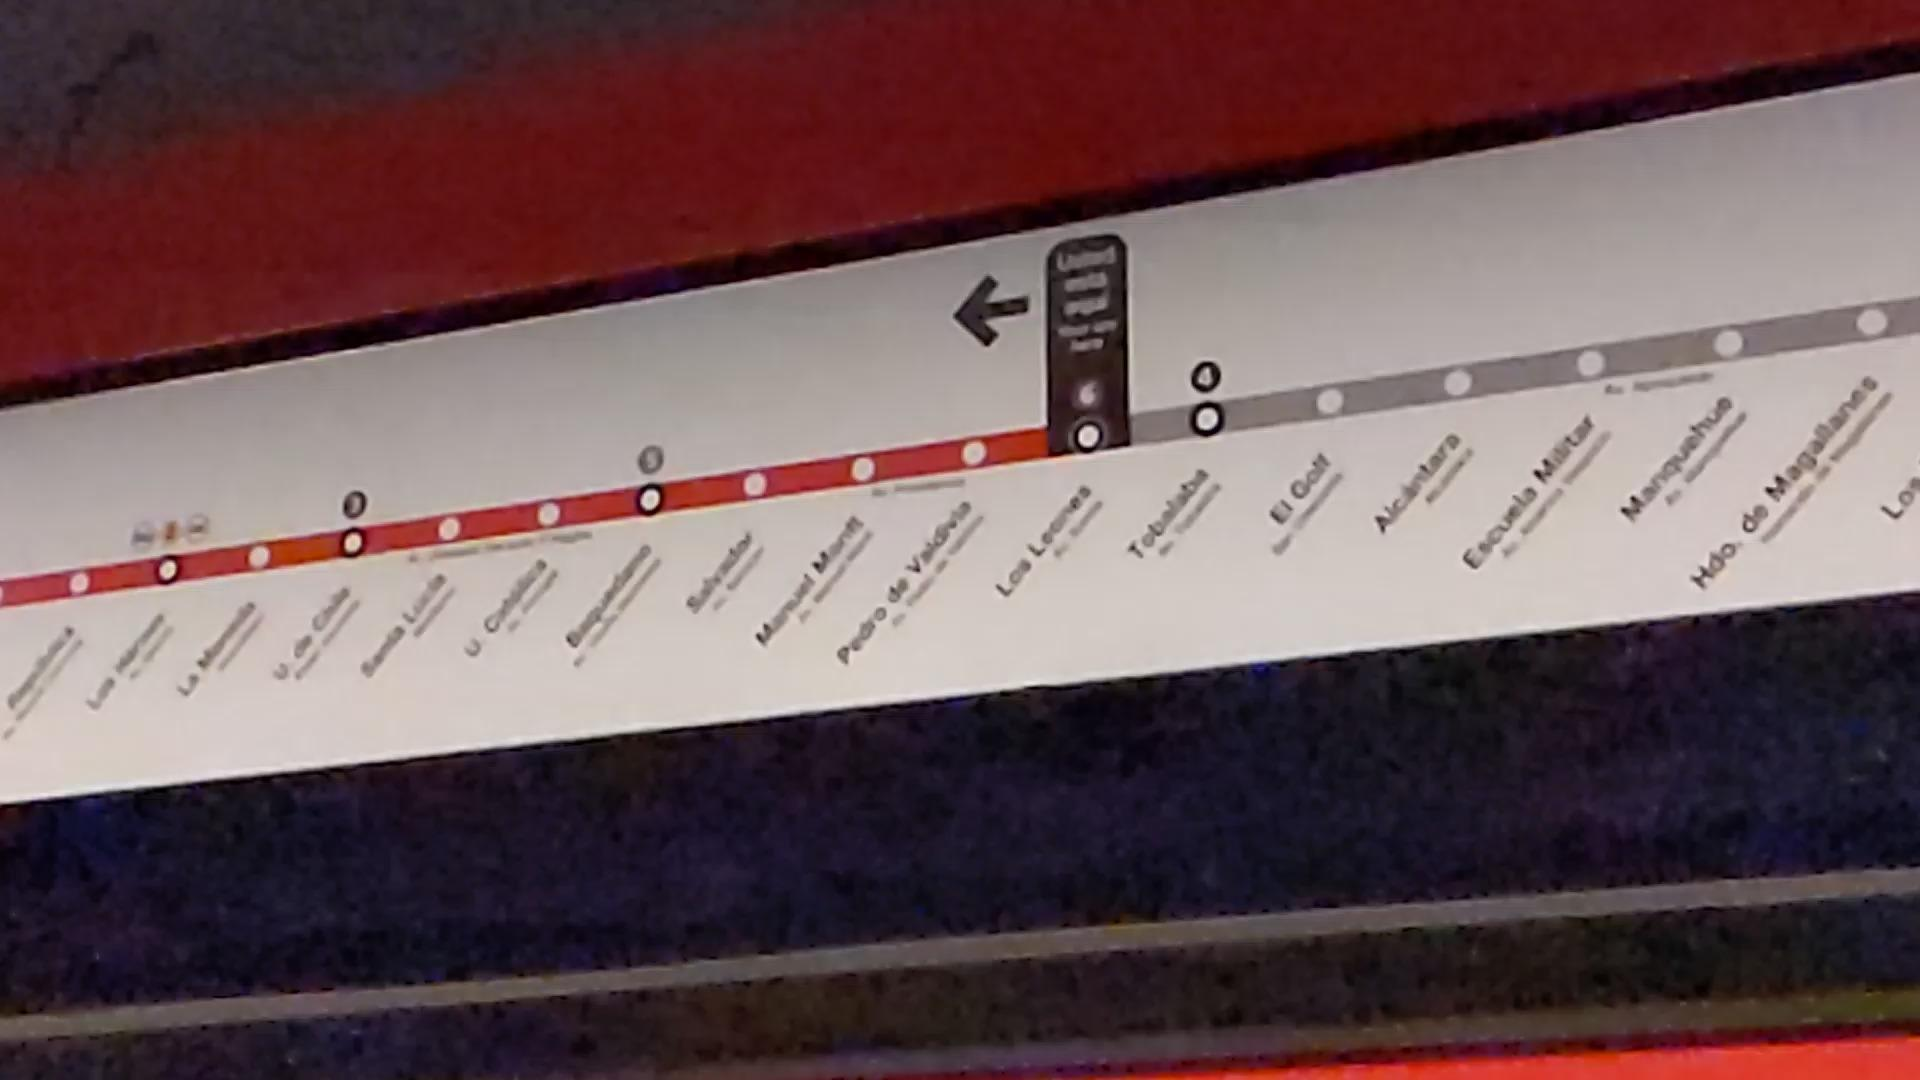left arrow: (951, 266, 1036, 359)
